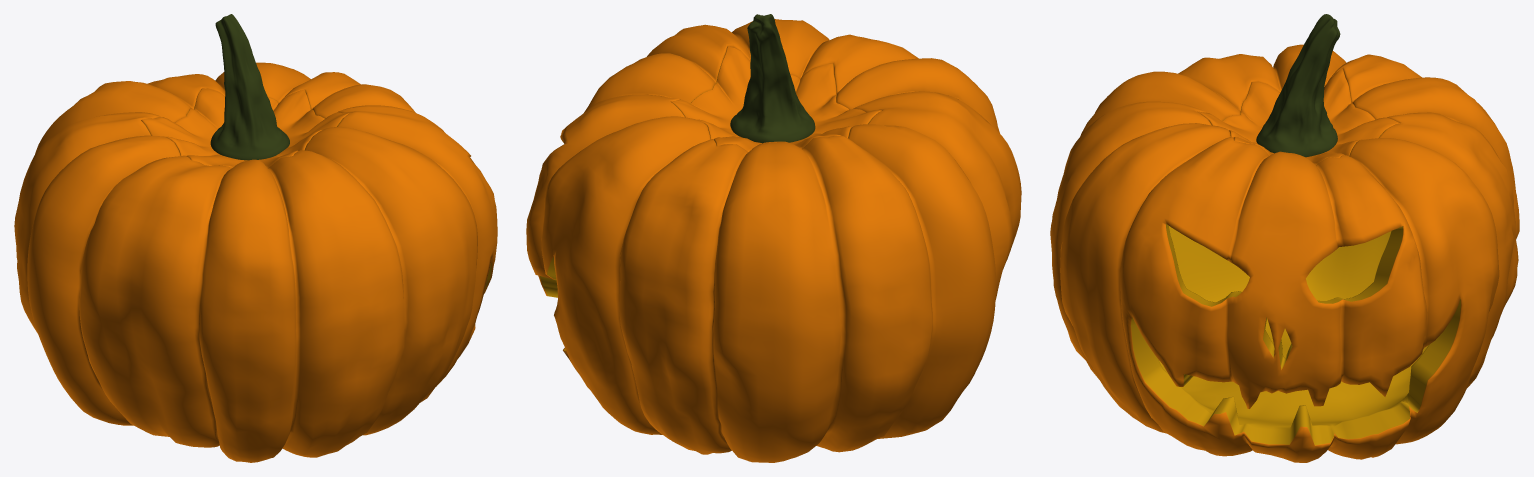
File: pumpkin.fbx
The picture shows the model from 3 angles, left to right: view 1: azimuth 30°, elevation 25°; view 2: azimuth 150°, elevation 25°; view 3: azimuth 270°, elevation 25°; orthographic projection. The views are drawn at different scales.
Visible parts, largest first — view 1: pumpkin-main, pumpkin-lid; view 2: pumpkin-main, pumpkin-lid; view 3: pumpkin-main, pumpkin-lid.
Part boxes in pixels (left/top/right/bottom): pumpkin-main: left=14, top=62, right=497, bottom=462; pumpkin-lid: left=141, top=14, right=350, bottom=168; pumpkin-main: left=526, top=19, right=1021, bottom=462; pumpkin-lid: left=670, top=14, right=881, bottom=152; pumpkin-main: left=1050, top=44, right=1519, bottom=462; pumpkin-lid: left=1197, top=14, right=1399, bottom=165.
Size of the model in its own units: 24.47 by 22.03 by 24.05.
